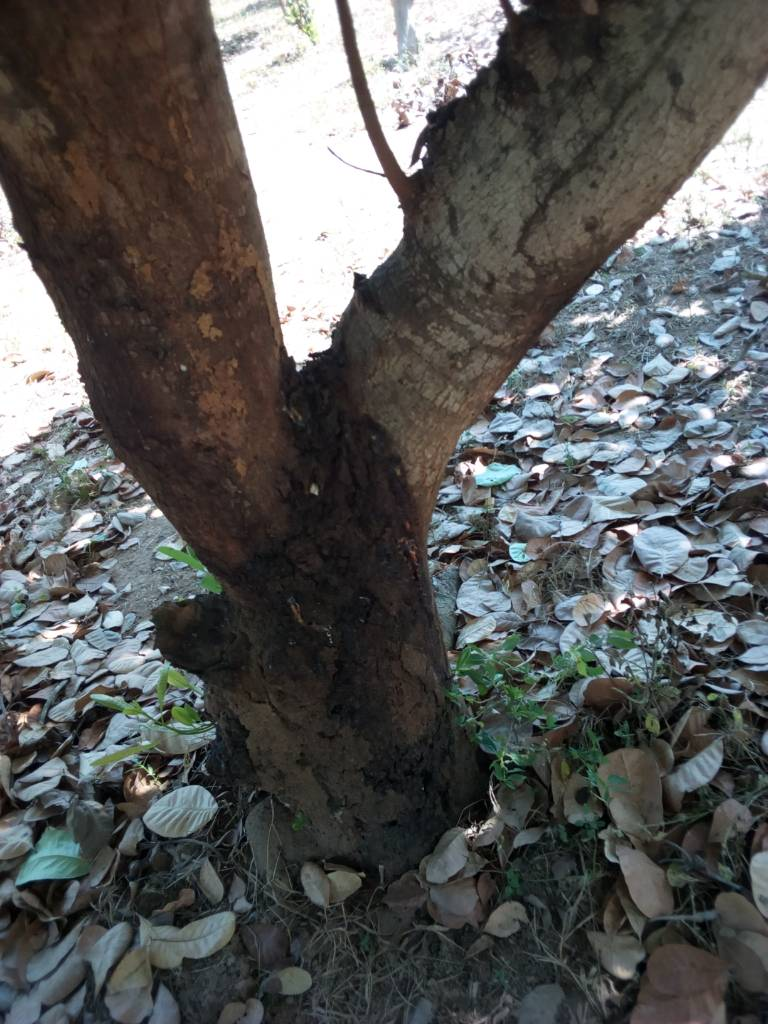Gommose: (252, 372, 465, 822)
